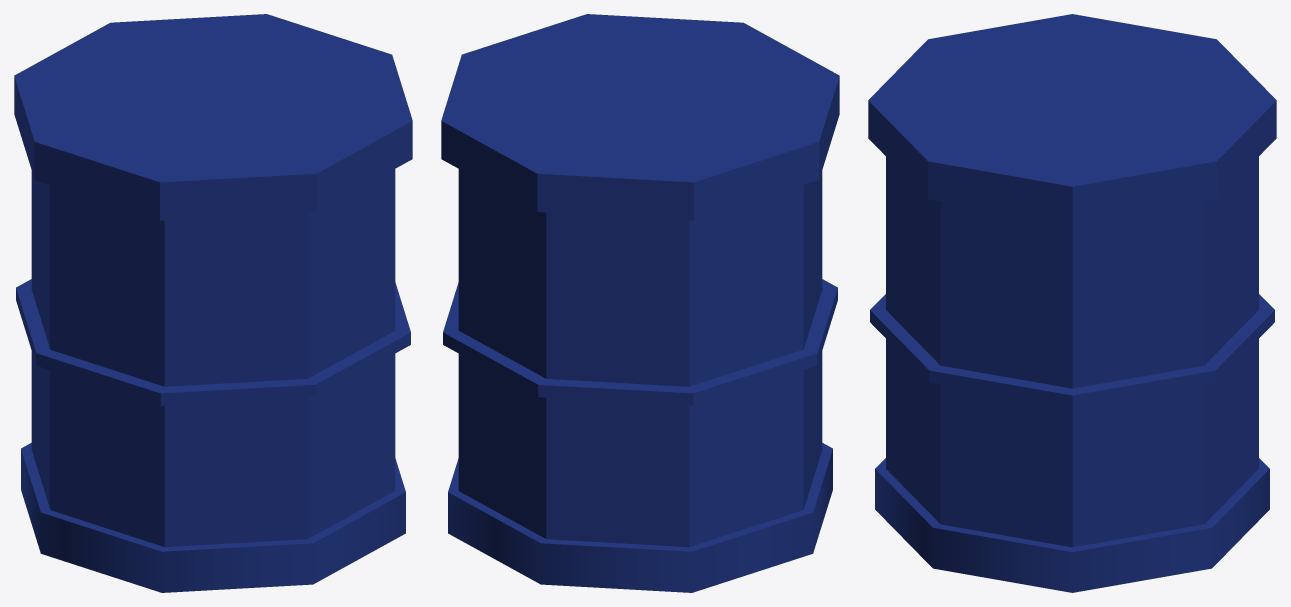
File: Barril.FBX
3 renders of one model, left to right at view 1: azimuth 30°, elevation 25°; view 2: azimuth 150°, elevation 25°; view 3: azimuth 270°, elevation 25°, orthographic.
Visible parts, largest first — view 1: G_Barril; view 2: G_Barril; view 3: G_Barril.
Part boxes in pixels (<box>): G_Barril: <box>14,14,412,592</box>; G_Barril: <box>441,14,839,592</box>; G_Barril: <box>868,14,1276,592</box>.
Bounding box in the file's own units: 5.08 × 5.62 × 5.08.
